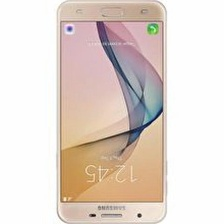phone: (53, 0, 171, 224)
